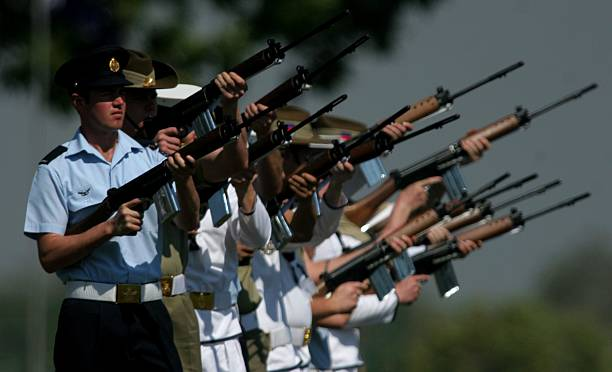rifle: (348, 73, 602, 237)
